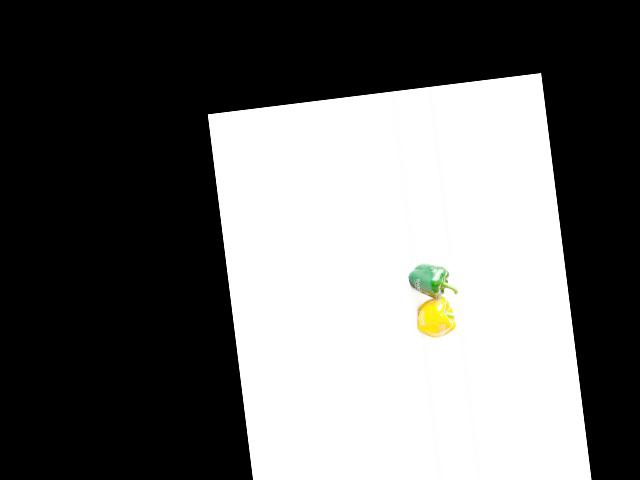bell_pepper: (400, 257, 454, 301)
